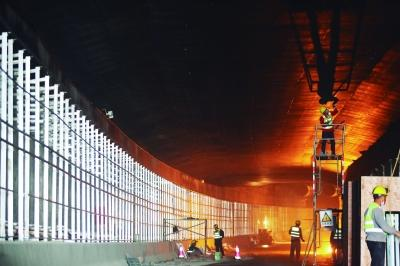hard-hat: (372, 184, 388, 195), (320, 105, 327, 112), (214, 223, 218, 228)
person: (363, 184, 400, 265), (319, 96, 340, 156), (288, 219, 305, 257), (212, 223, 225, 256)
vest: (363, 202, 395, 237), (319, 105, 336, 128), (289, 226, 301, 237)
